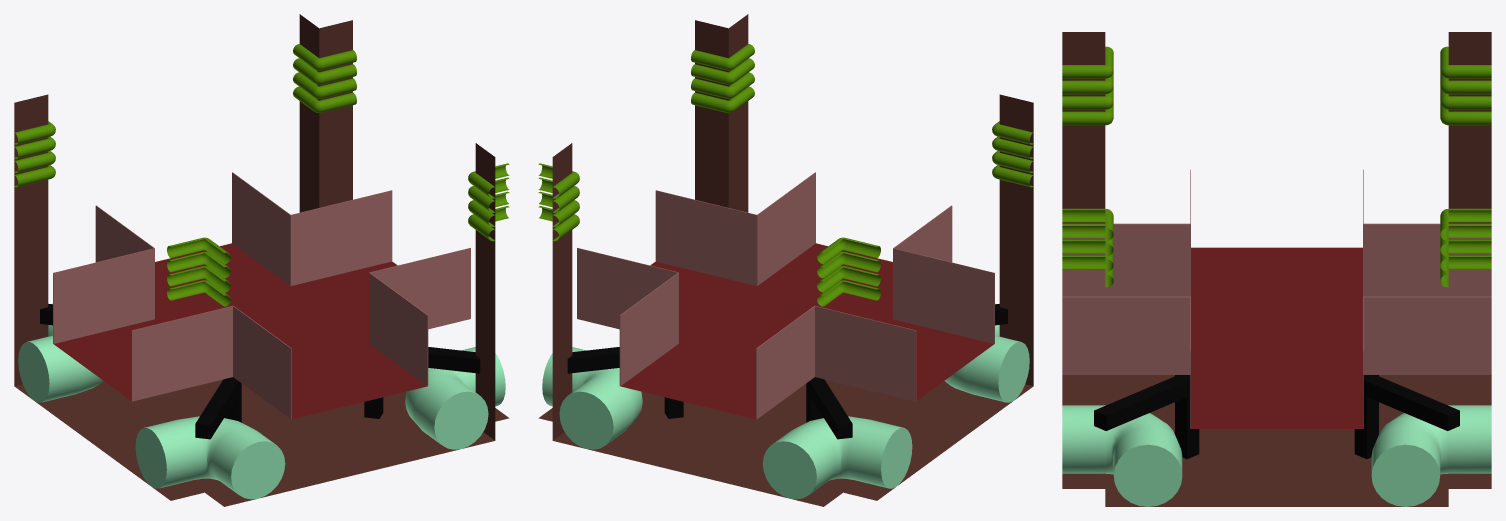
Rendered from 4WayJunction.fbx.
The picture shows the model from 3 angles, left to right: view 1: azimuth 30°, elevation 25°; view 2: azimuth 150°, elevation 25°; view 3: azimuth 270°, elevation 25°; orthographic projection. The views are drawn at different scales.
Visible parts, largest first — view 1: 4WayJunction; view 2: 4WayJunction; view 3: 4WayJunction.
Part boxes in pixels (left/top/right/bottom): 4WayJunction: left=14, top=14, right=509, bottom=506; 4WayJunction: left=538, top=14, right=1033, bottom=506; 4WayJunction: left=1062, top=32, right=1491, bottom=506.
Size of the model in its own units: 5 by 4 by 5.
